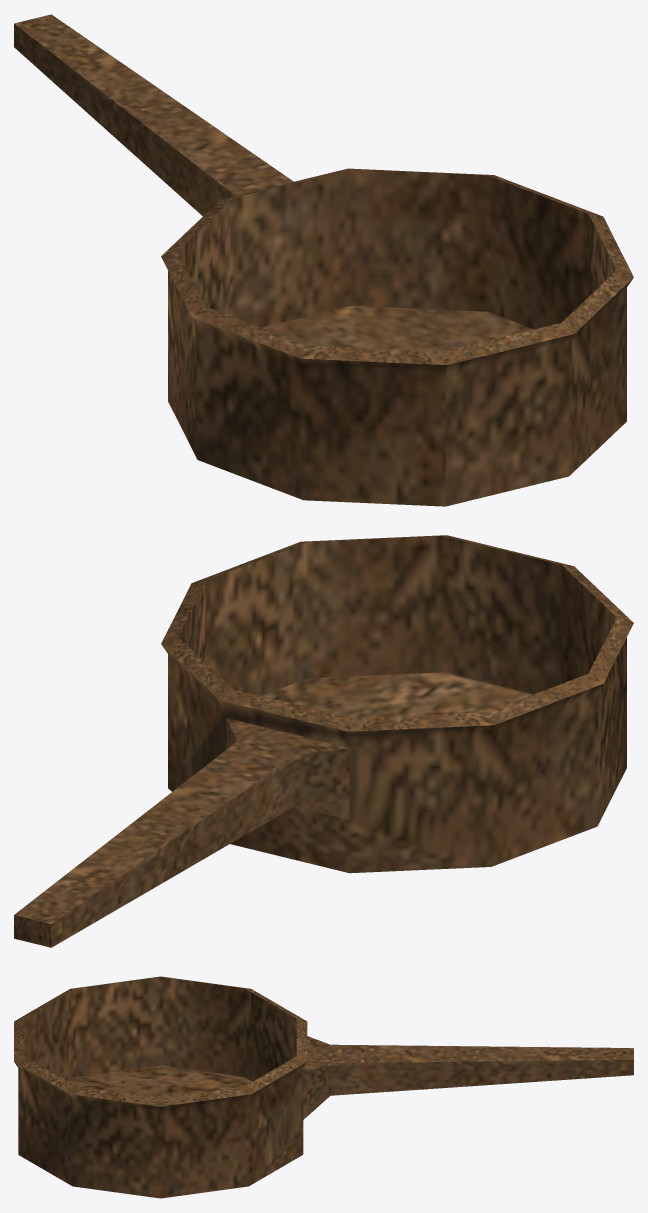
The model's file is edb_con_tato_pot_empty_s03_l0.fbx.
3 views of the same model, one above another, from view 1: azimuth 30°, elevation 25°; view 2: azimuth 150°, elevation 25°; view 3: azimuth 270°, elevation 25° (orthographic). The views are drawn at different scales.
Parts seen in each view (by area): view 1: mesh_node; view 2: mesh_node; view 3: mesh_node.
Part boxes in pixels (<box>): mesh_node: <box>14,14,633,506</box>; mesh_node: <box>14,535,633,947</box>; mesh_node: <box>14,976,633,1198</box>.
Size of the model in its own units: 0.1437 by 0.0503 by 0.2888.
Materials: 1 (1 with a texture image).
